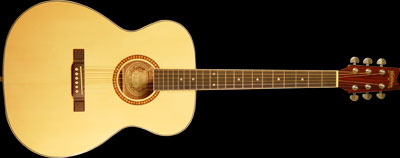guitar: (2, 1, 400, 158)
